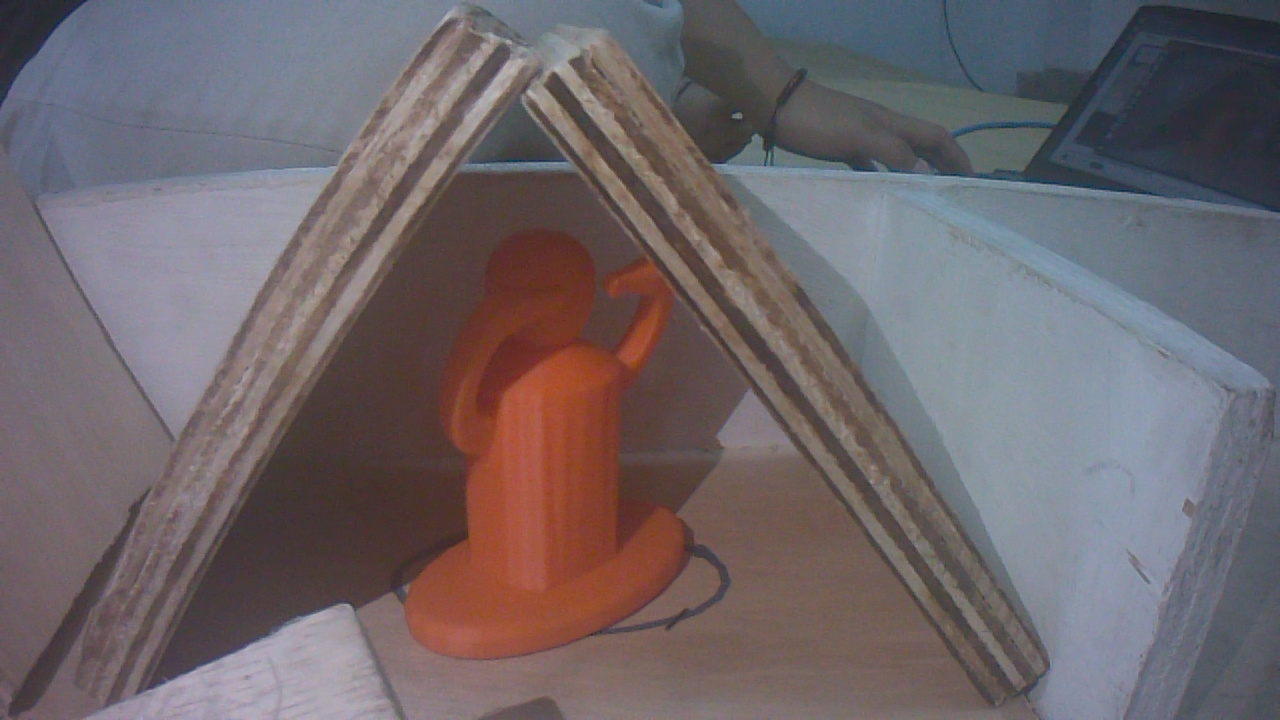real: (376, 222, 685, 647)
